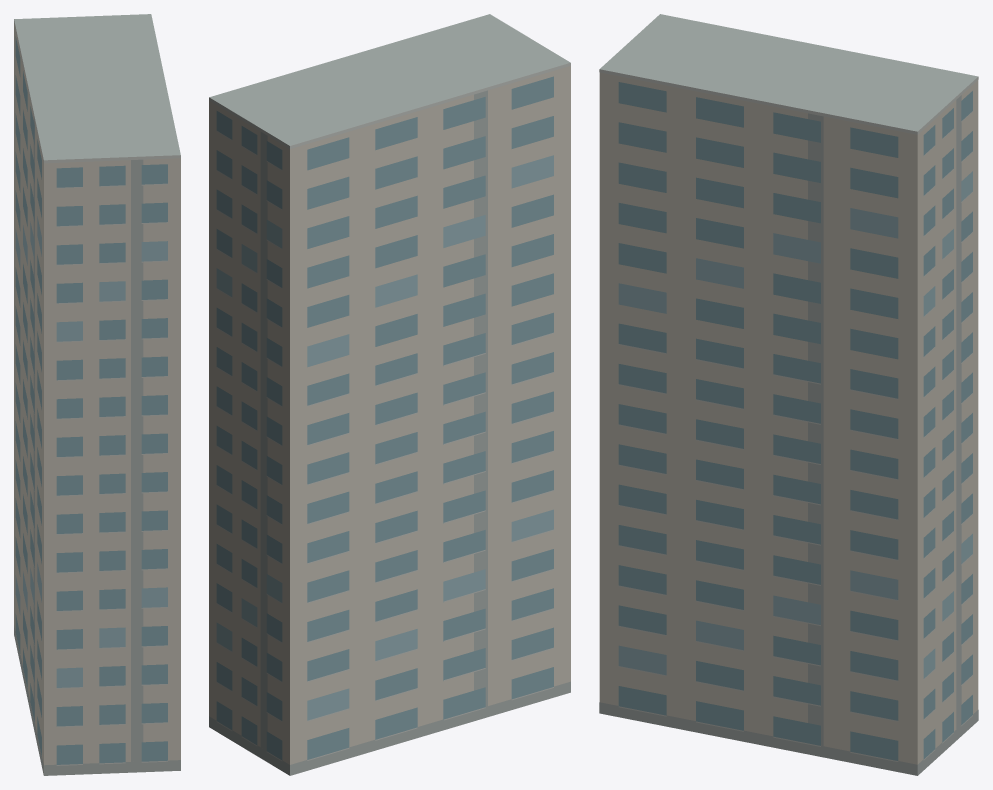
File: residential-9b27e316-00d0-4660-8097-595429dc9f33.glb
3 renders of one model, left to right at view 1: azimuth 30°, elevation 25°; view 2: azimuth 150°, elevation 25°; view 3: azimuth 270°, elevation 25°, orthographic. The views are drawn at different scales.
Parts seen in each view (by area): view 1: residential-9b27e316-00d0-4660-8097-595429dc9f33.tmp; view 2: residential-9b27e316-00d0-4660-8097-595429dc9f33.tmp; view 3: residential-9b27e316-00d0-4660-8097-595429dc9f33.tmp.
Boxes of the visible parts, x1,y1,x2,y2 form: residential-9b27e316-00d0-4660-8097-595429dc9f33.tmp: (14, 14, 180, 775); residential-9b27e316-00d0-4660-8097-595429dc9f33.tmp: (209, 14, 570, 775); residential-9b27e316-00d0-4660-8097-595429dc9f33.tmp: (599, 14, 978, 775).
Size of the model in its own units: 19.13 by 48.8 by 26.03.
